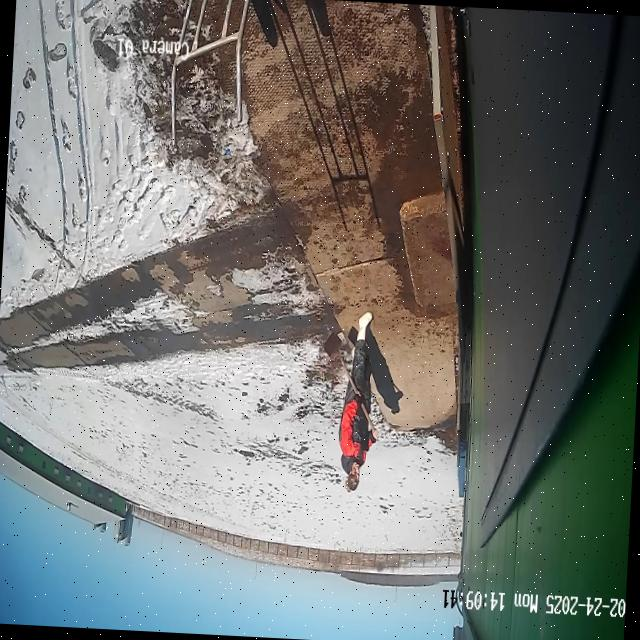Red uniform: (335, 308, 386, 494)
